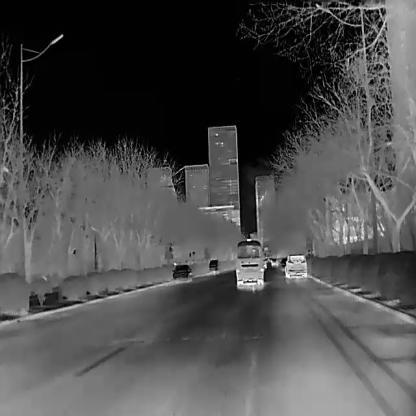car: (234, 238, 263, 286), (283, 253, 307, 280), (171, 264, 193, 281), (208, 259, 219, 273)
